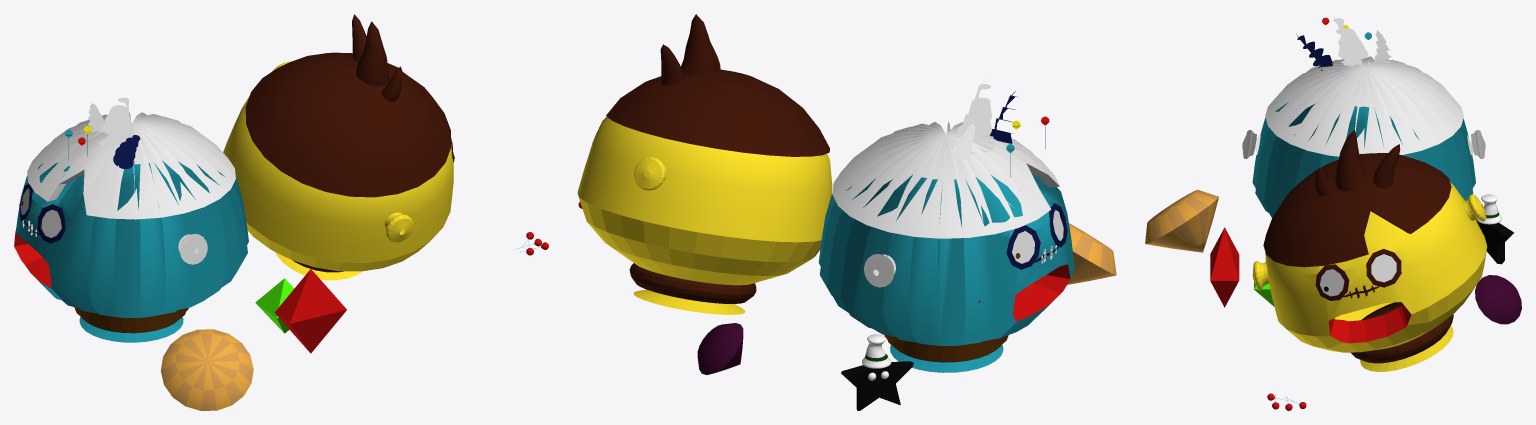
3 views of the same model, side by side, from view 1: azimuth 30°, elevation 25°; view 2: azimuth 150°, elevation 25°; view 3: azimuth 270°, elevation 25° (orthographic). The views are drawn at different scales.
Parts seen in each view (by area): view 1: Sphère001, Sphère004, Sphère003, Sphère002, Cylindre003, Polyèdre002, Cône004, Cône003, Cône002, Polyèdre001, Cylindre004, Cylindre001 (+1 smaller); view 2: Sphère003, Sphère001, Sphère002, Sphère004, Cylindre005, Cylindre003, Polygone005, Cône003, Cône002, Cône004, Cylindre001, Cylindre004 (+4 smaller); view 3: Sphère003, Sphère002, Sphère004, Sphère001, Cylindre003, Cylindre005, Polyèdre002, Cône004, Cône003, Cône002, Polygone005, Cylindre004 (+7 smaller).
Boxes of the visible parts, box(x1,y1,x2,y2) form: Sphère001: box(14, 160, 248, 342); Sphère004: box(245, 52, 451, 197); Sphère003: box(223, 96, 453, 280); Sphère002: box(27, 112, 235, 219); Cylindre003: box(161, 329, 253, 410); Polyèdre002: box(274, 269, 346, 353); Cône004: box(113, 14, 402, 168); Cône003: box(356, 21, 389, 85); Cône002: box(97, 97, 133, 148); Polyèdre001: box(255, 278, 294, 333); Cylindre004: box(272, 61, 413, 242); Cylindre001: box(178, 234, 207, 264); Sphère003: box(577, 117, 832, 314); Sphère001: box(818, 174, 1074, 372); Sphère002: box(832, 121, 1059, 238); Sphère004: box(606, 69, 829, 156); Cylindre005: box(697, 323, 743, 374); Cylindre003: box(1067, 223, 1116, 284); Polygone005: box(841, 361, 913, 410); Cône003: box(681, 14, 717, 74); Cône002: box(957, 79, 994, 153); Cône004: box(660, 42, 1016, 143); Cylindre001: box(864, 254, 895, 287); Cylindre004: box(634, 157, 666, 190); Sphère003: box(1265, 182, 1487, 371); Sphère002: box(1265, 56, 1463, 156); Sphère004: box(1263, 153, 1451, 267); Sphère001: box(1252, 102, 1475, 217); Cylindre003: box(1145, 189, 1218, 252); Cylindre005: box(1475, 275, 1521, 324); Polyèdre002: box(1210, 227, 1239, 307); Cône004: box(1296, 34, 1400, 196); Cône003: box(1335, 130, 1367, 191); Cône002: box(1333, 16, 1369, 67); Polygone005: box(1476, 219, 1513, 264); Cylindre004: box(1252, 194, 1486, 290).
Bounding box in the file's own units: 111 × 57.42 × 81.22.
